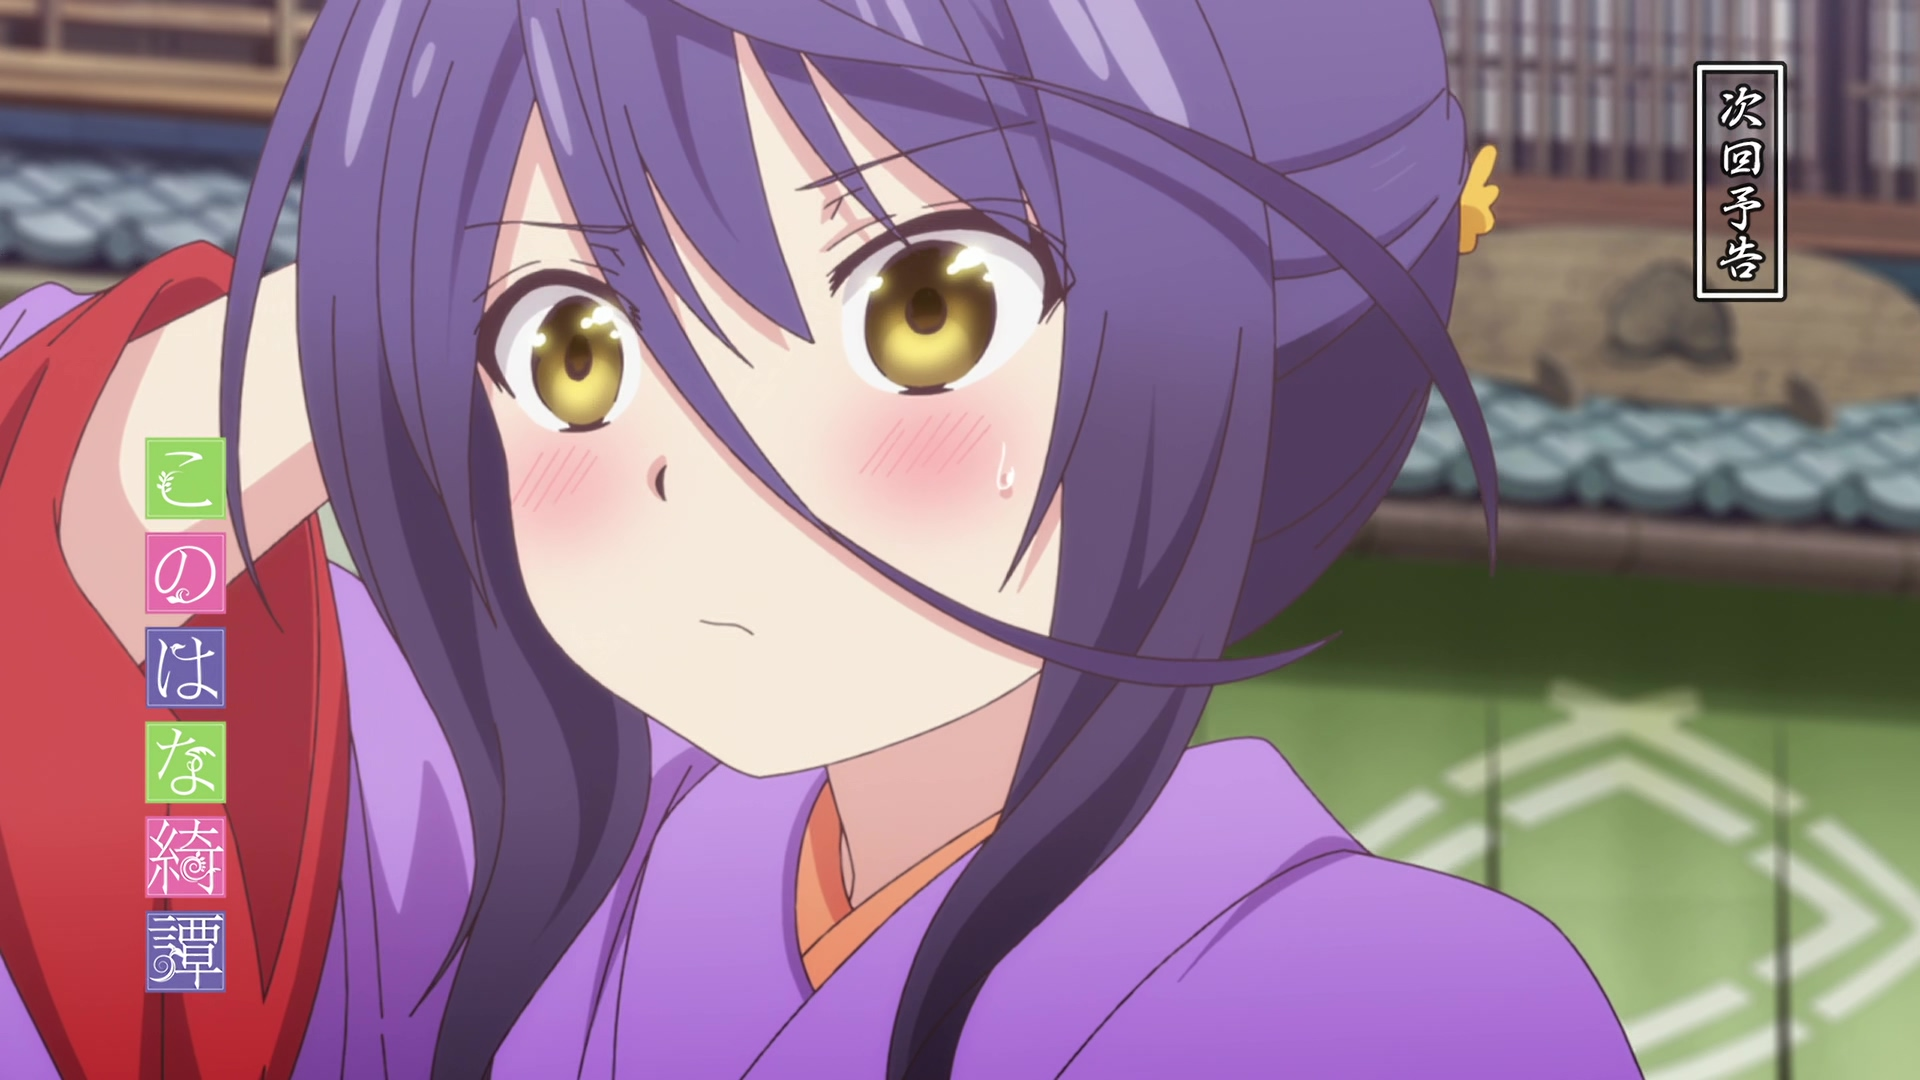皋: (1, 1, 1647, 1080)
